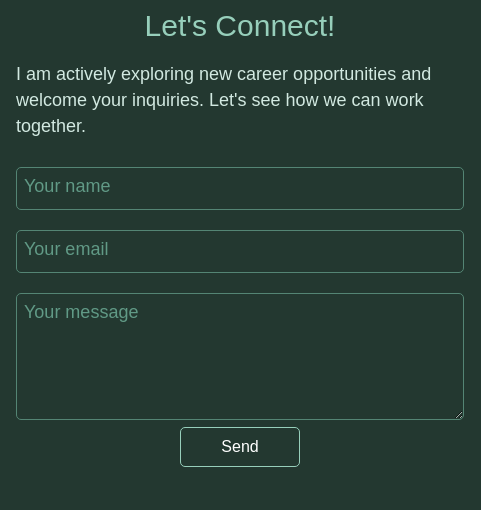
Contact form › Send button submits form and shows success message
The width and height of the screenshot is (481, 510).
Type "Test Name" into the field labelled "Your name".
click(240, 188); type("Test Name")  # box [16,167,464,210]
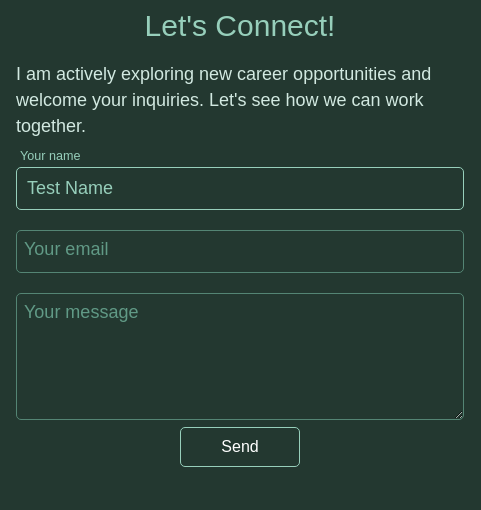
Type "test@example.com" into the field labelled "Your email".
click(240, 252); type("test@example.com")  # box [16,230,464,273]
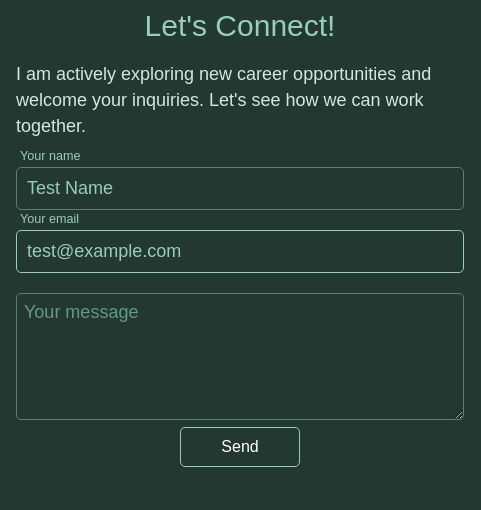
Type "Test message" into the text box labelled "Your message".
click(240, 356); type("Test message")  # box [16,293,464,420]
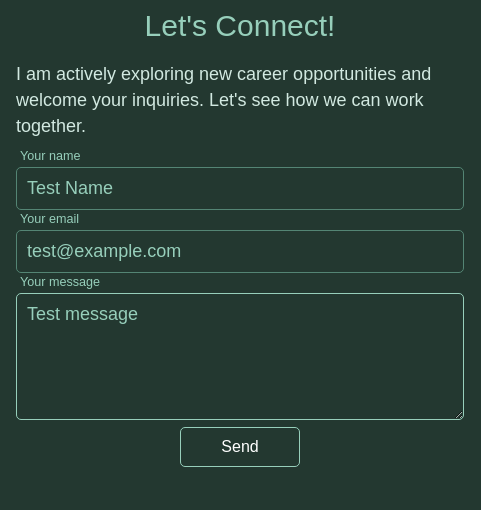
Click the button "Send".
click(240, 447)  # box [180,427,300,467]
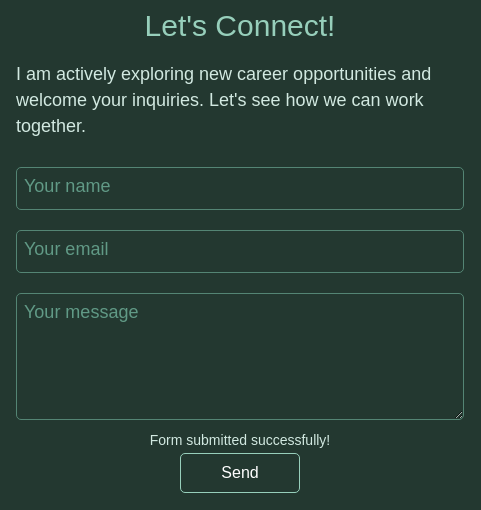
Expected: the text "Form submitted successfully!" is shown, [150,427,330,453]
